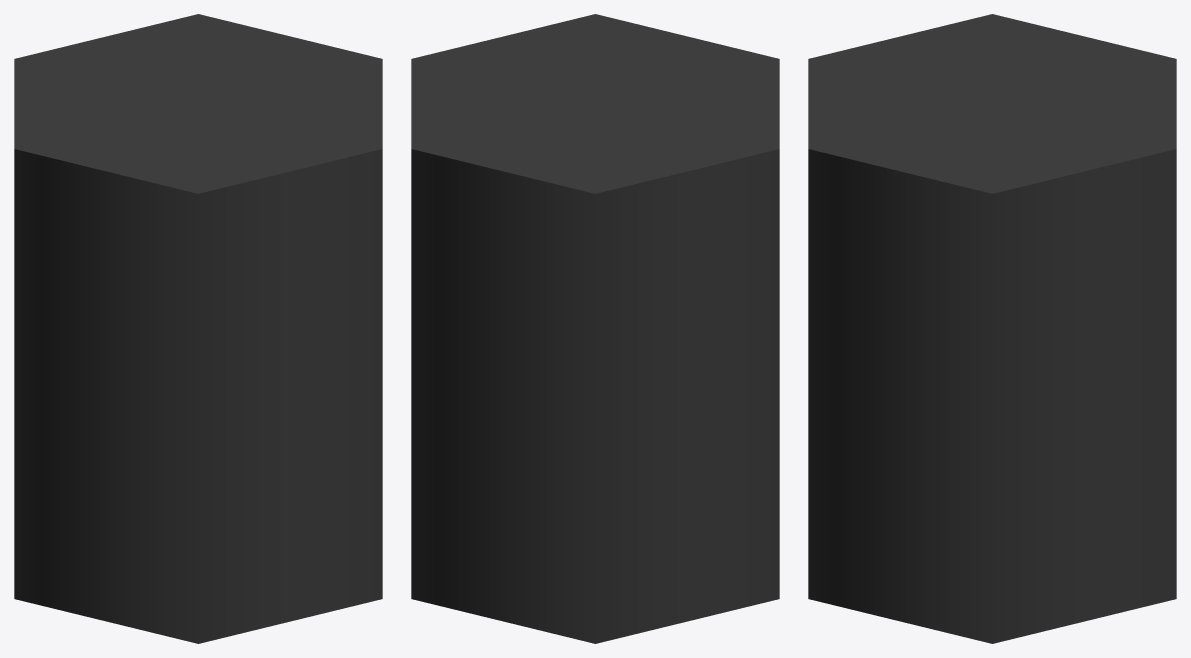
The model's file is Castle_Block_E.FBX.
The picture shows the model from 3 angles, left to right: view 1: azimuth 30°, elevation 25°; view 2: azimuth 150°, elevation 25°; view 3: azimuth 270°, elevation 25°; orthographic projection.
Parts seen in each view (by area): view 1: Castle_block_E; view 2: Castle_block_E; view 3: Castle_block_E.
Part boxes in pixels (bbox=[...]): Castle_block_E: bbox=[14, 14, 382, 643]; Castle_block_E: bbox=[411, 14, 779, 643]; Castle_block_E: bbox=[808, 14, 1176, 643].
Size of the model in its own units: 30 by 35 by 25.98.
